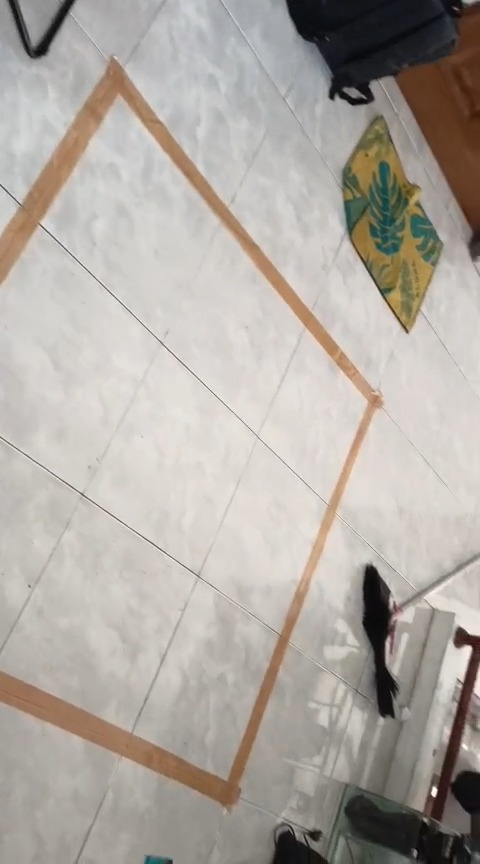floor marking: (0, 59, 382, 808)
